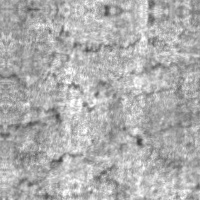crazing: (6, 46, 98, 136), (115, 57, 191, 153), (48, 10, 167, 53), (12, 151, 118, 199)
